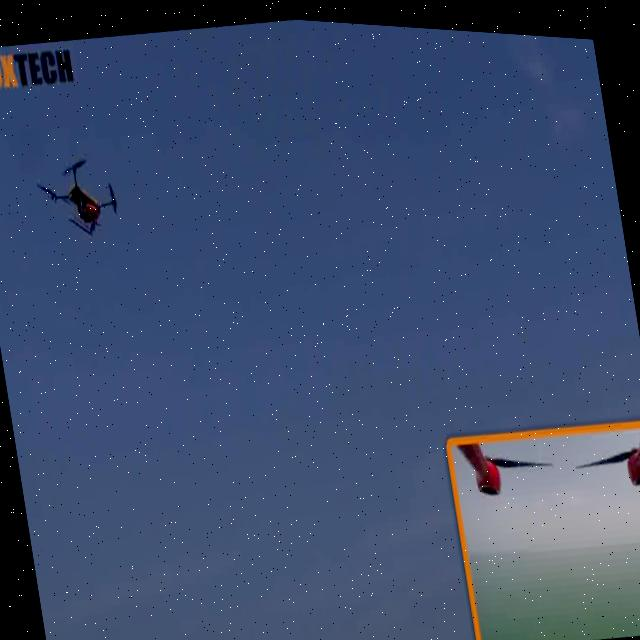drone: (30, 135, 134, 257)
